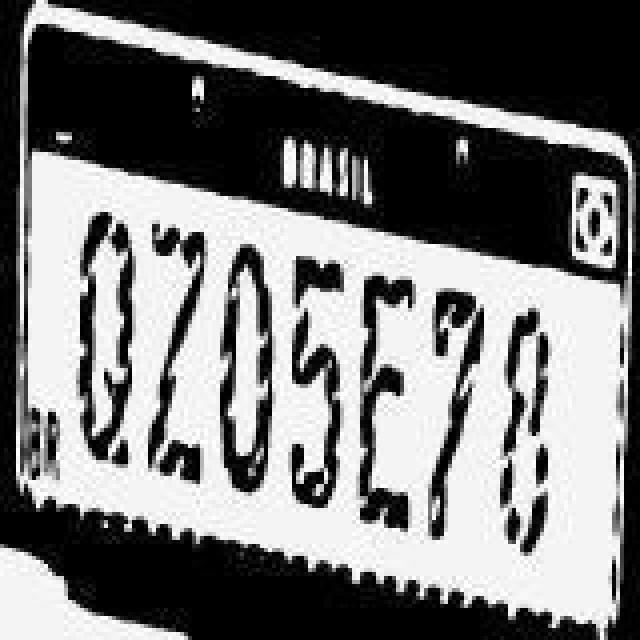5: (284, 250, 348, 518)
7: (424, 286, 488, 546)
8: (498, 306, 558, 558)
E: (352, 268, 416, 532)
O: (218, 242, 278, 502)
Q: (74, 210, 134, 470)
Z: (146, 214, 206, 490)
